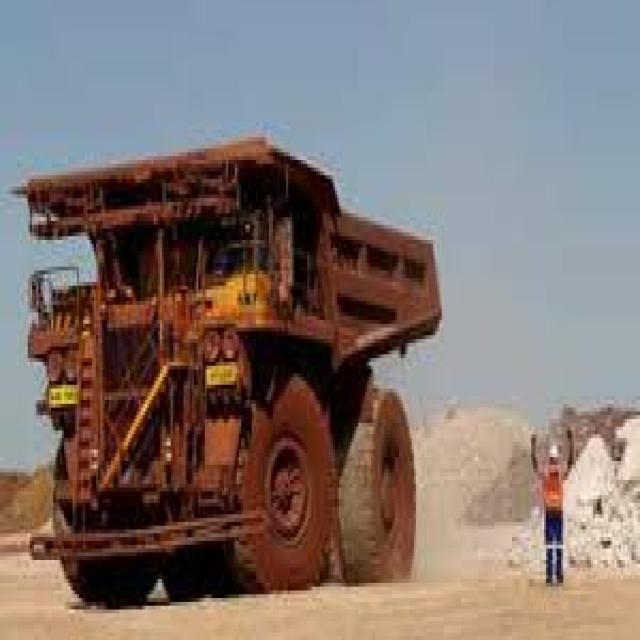dump_truck: (6, 107, 452, 598)
